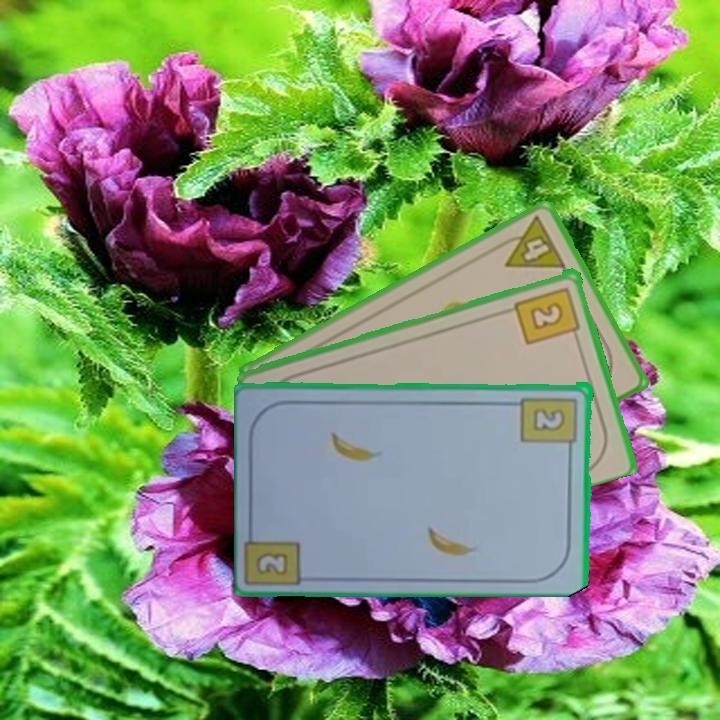2b: (512, 283, 583, 348), (519, 393, 580, 455), (256, 551, 288, 575)
4p: (492, 212, 569, 272)
